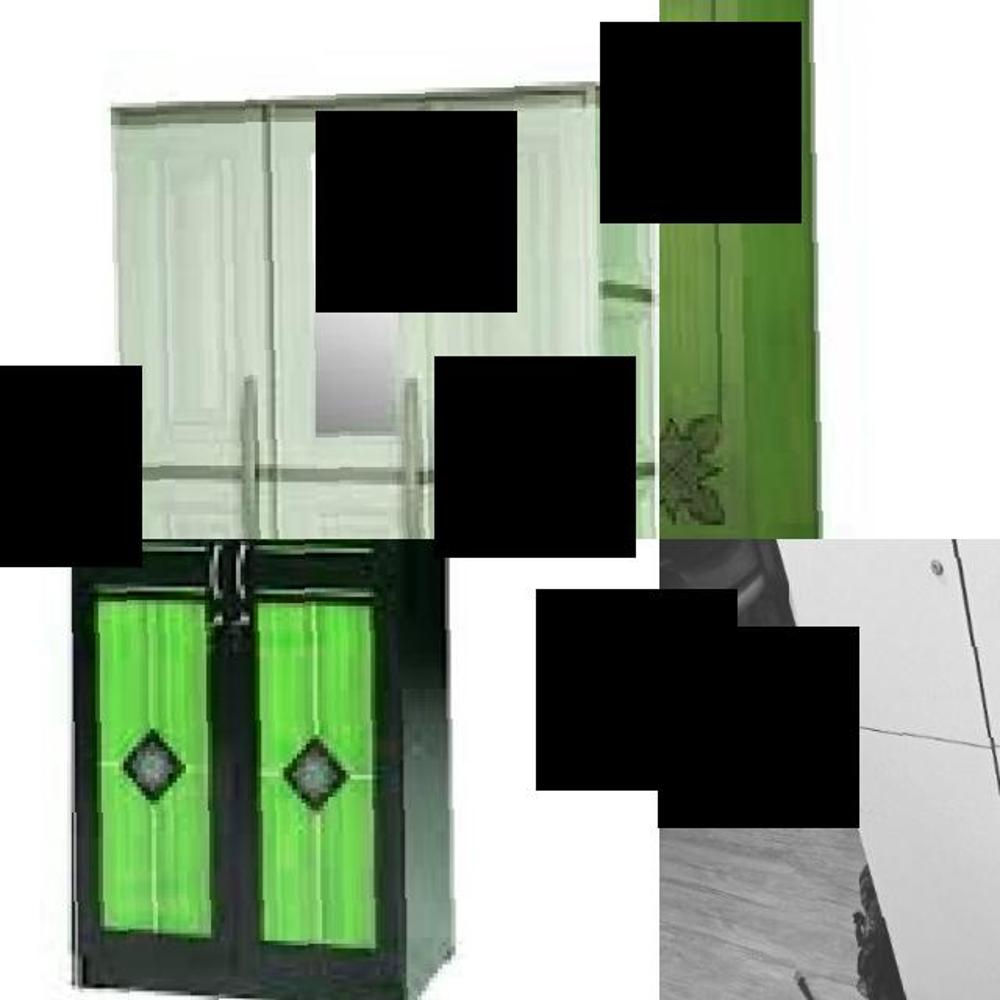cabinet: (103, 69, 659, 539), (64, 539, 455, 1000), (659, 0, 938, 539), (789, 539, 1000, 1000)
